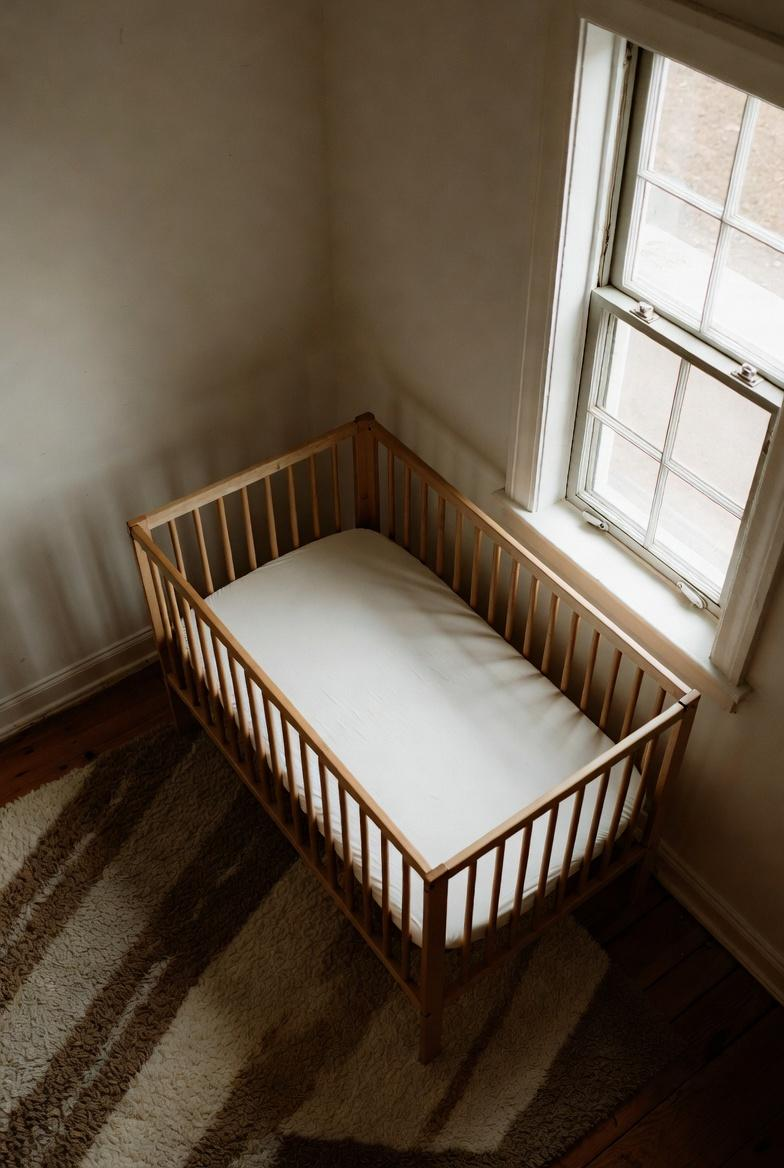crib: (108, 390, 712, 1085)
